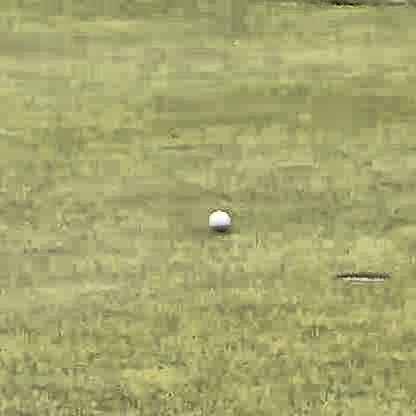golfball: (205, 206, 228, 231)
